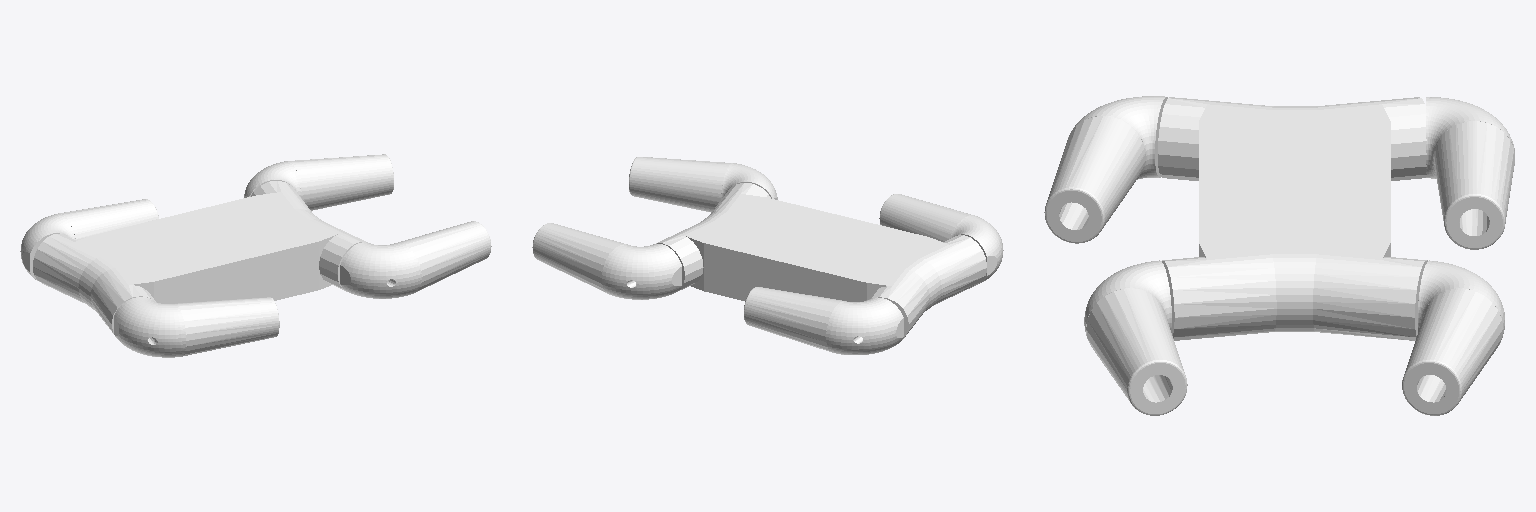
URDF robot description (12_degree):
<?xml version="1.0" encoding="utf-8"?>
<!-- This URDF was automatically created by SolidWorks to URDF Exporter! Originally created by [author] ([email redacted]) 
     Commit Version: 1.5.1-0-g916b5db  Build Version: 1.5.7152.31018
     For more information, please see http://wiki.ros.org/sw_urdf_exporter -->
<robot
  name="12_degree">
  <link
    name="base_link">
    <inertial>
      <origin
        xyz="5.5511E-17 2.9525E-08 5.2042E-18"
        rpy="0 0 0" />
      <mass
        value="2.942" />
      <inertia
        ixx="0.0101107"
        ixy="1.6577E-18"
        ixz="-1.5307E-10"
        iyy="0.0420182"
        iyz="-3.2657E-19"
        izz="0.0497344" />
    </inertial>
    <visual>
      <origin
        xyz="0 0 0"
        rpy="0 0 0" />
      <geometry>
        <mesh
          filename="package://12_degree/meshes/base_link.STL" />
      </geometry>
      <material
        name="">
        <color
          rgba="1 1 1 1" />
      </material>
    </visual>
    <collision>
      <origin
        xyz="0 0 0"
        rpy="0 0 0" />
      <geometry>
        <mesh
          filename="package://12_degree/meshes/base_link.STL" />
      </geometry>
    </collision>
  </link>
  <link
    name="left_front_link">
    <inertial>
      <origin
        xyz="-2.2934E-08 0.063075 -0.023408"
        rpy="0 0 0" />
      <mass
        value="0.092" />
      <inertia
        ixx="0.0002604"
        ixy="6.1129E-10"
        ixz="9.3338E-10"
        iyy="0.0000522"
        iyz="-2.10E-05"
        izz="0.0002579" />
    </inertial>
    <visual>
      <origin
        xyz="0 0 0"
        rpy="0 0 0" />
      <geometry>
        <mesh
          filename="package://12_degree/meshes/left_front_link.STL" />
      </geometry>
      <material
        name="">
        <color
          rgba="1 1 1 1" />
      </material>
    </visual>
    <collision>
      <origin
        xyz="0 0 0"
        rpy="0 0 0" />
      <geometry>
        <mesh
          filename="package://12_degree/meshes/left_front_link.STL" />
      </geometry>
    </collision>
  </link>
  <joint
    name="left_front_leg"
    type="continuous">
    <origin
      xyz="0.15141 0.10075 0"
      rpy="1.5708 1.5708 0" />
    <parent
      link="base_link" />
    <child
      link="left_front_link" />
    <axis
      xyz="0 0.20791 -0.97815" />
    <limit
      effort="5"
      velocity="487" />
  </joint>
  <link
    name="right_front_link">
    <inertial>
      <origin
        xyz="2.2934E-08 0.063075 0.023408"
        rpy="0 0 0" />
      <mass
        value="0.092" />
      <inertia
        ixx="0.0002604"
        ixy="-6.1129E-10"
        ixz="9.3338E-10"
        iyy="0.0000522"
        iyz="2.10E-05"
        izz="0.0002579" />
    </inertial>
    <visual>
      <origin
        xyz="0 0 0"
        rpy="0 0 0" />
      <geometry>
        <mesh
          filename="package://12_degree/meshes/right_front_link.STL" />
      </geometry>
      <material
        name="">
        <color
          rgba="1 1 1 1" />
      </material>
    </visual>
    <collision>
      <origin
        xyz="0 0 0"
        rpy="0 0 0" />
      <geometry>
        <mesh
          filename="package://12_degree/meshes/right_front_link.STL" />
      </geometry>
    </collision>
  </link>
  <joint
    name="right_front_leg"
    type="continuous">
    <origin
      xyz="0.15141 -0.10075 0"
      rpy="1.5708 1.5708 0" />
    <parent
      link="base_link" />
    <child
      link="right_front_link" />
    <axis
      xyz="0 0.20791 0.97815" />
    <limit
      effort="5"
      velocity="487" />
  </joint>
  <link
    name="right_back_link">
    <inertial>
      <origin
        xyz="1.3042E-09 0.05683 0.036011"
        rpy="0 0 0" />
      <mass
        value="0.092" />
      <inertia
        ixx="0.0002604"
        ixy="-5.3076E-10"
        ixz="5.8227E-10"
        iyy="0.0000526"
        iyz="-2.27E-05"
        izz="0.0002575" />
    </inertial>
    <visual>
      <origin
        xyz="0 0 0"
        rpy="0 0 0" />
      <geometry>
        <mesh
          filename="package://12_degree/meshes/right_back_link.STL" />
      </geometry>
      <material
        name="">
        <color
          rgba="1 1 1 1" />
      </material>
    </visual>
    <collision>
      <origin
        xyz="0 0 0"
        rpy="0 0 0" />
      <geometry>
        <mesh
          filename="package://12_degree/meshes/right_back_link.STL" />
      </geometry>
    </collision>
  </link>
  <joint
    name="right_back_leg"
    type="continuous">
    <origin
      xyz="-0.15141 -0.10075 0"
      rpy="1.7802 1.5708 0" />
    <parent
      link="base_link" />
    <child
      link="right_back_link" />
    <axis
      xyz="0 0 1" />
    <limit
      effort="5"
      velocity="487" />
  </joint>
  <link
    name="left_back_link">
    <inertial>
      <origin
        xyz="-1.3042E-09 0.048101 -0.047039"
        rpy="0 0 0" />
      <mass
        value="0.092" />
      <inertia
        ixx="0.0002604"
        ixy="6.4022E-10"
        ixz="4.5919E-10"
        iyy="0.0000707"
        iyz="0.0000624"
        izz="0.0002394" />
    </inertial>
    <visual>
      <origin
        xyz="0 0 0"
        rpy="0 0 0" />
      <geometry>
        <mesh
          filename="package://12_degree/meshes/left_back_link.STL" />
      </geometry>
      <material
        name="">
        <color
          rgba="1 1 1 1" />
      </material>
    </visual>
    <collision>
      <origin
        xyz="0 0 0"
        rpy="0 0 0" />
      <geometry>
        <mesh
          filename="package://12_degree/meshes/left_back_link.STL" />
      </geometry>
    </collision>
  </link>
  <joint
    name="left_back_leg"
    type="continuous">
    <origin
      xyz="-0.15141 0.10075 0"
      rpy="1.5708 1.5708 0" />
    <parent
      link="base_link" />
    <child
      link="left_back_link" />
    <axis
      xyz="0 -0.20791 -0.97815" />
    <limit
      effort="5"
      velocity="487" />
  </joint>
</robot>

--- What the picture shows (computed from the rendered views, not written in the file) ---
Views: 3 orthographic renders of the robot side by side, from view 1: azimuth 30°, elevation 25°; view 2: azimuth 150°, elevation 25°; view 3: azimuth 270°, elevation 25°.
Robot: 12_degree — 5 links, 4 joints (4 continuous); root link base_link; default pose: all joints at 0.
Visible links, largest first — view 1: base_link, right_back_link, right_front_link, left_front_link, left_back_link; view 2: base_link, left_back_link, left_front_link, right_front_link, right_back_link; view 3: base_link, right_back_link, right_front_link, left_front_link, left_back_link.
Boxes of the visible links, left/top/right/bottom form: base_link: left=33, top=181, right=365, bottom=333; right_back_link: left=114, top=297, right=279, bottom=357; right_front_link: left=340, top=221, right=491, bottom=298; left_front_link: left=244, top=154, right=393, bottom=210; left_back_link: left=20, top=199, right=158, bottom=279; base_link: left=656, top=183, right=986, bottom=339; left_back_link: left=744, top=287, right=903, bottom=354; left_front_link: left=532, top=223, right=681, bottom=299; right_front_link: left=629, top=157, right=777, bottom=211; right_back_link: left=879, top=194, right=1003, bottom=283; base_link: left=1158, top=97, right=1427, bottom=340; right_back_link: left=1044, top=96, right=1167, bottom=243; right_front_link: left=1084, top=260, right=1187, bottom=415; left_front_link: left=1402, top=260, right=1504, bottom=415; left_back_link: left=1426, top=97, right=1514, bottom=249.
Size in the robot's own frame: 0.5035 by 0.3691 by 0.064 metres.
5 mesh visuals loaded from 5 distinct referenced files (5 binary STL).